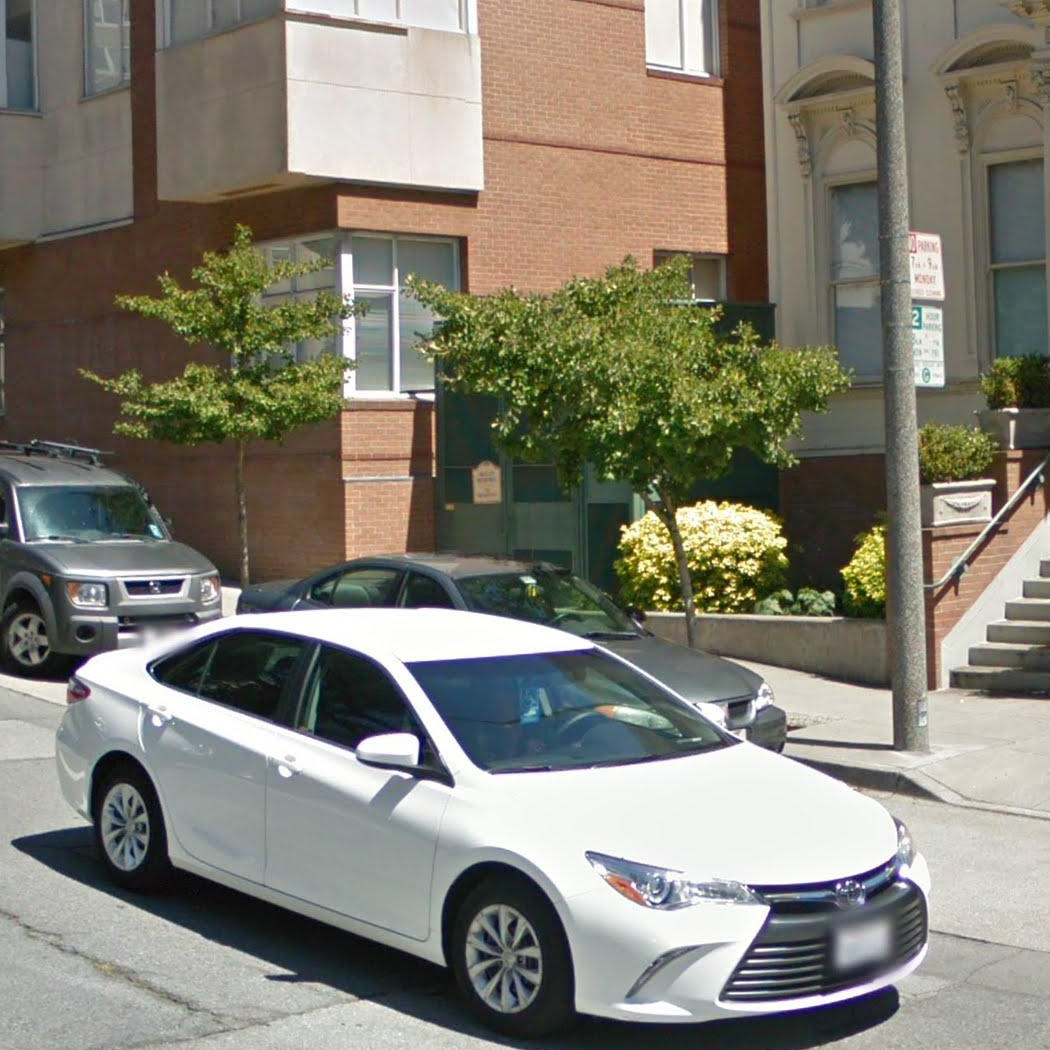2 Hour Parking: (907, 306, 946, 388)
No Parking: (906, 227, 947, 300)
